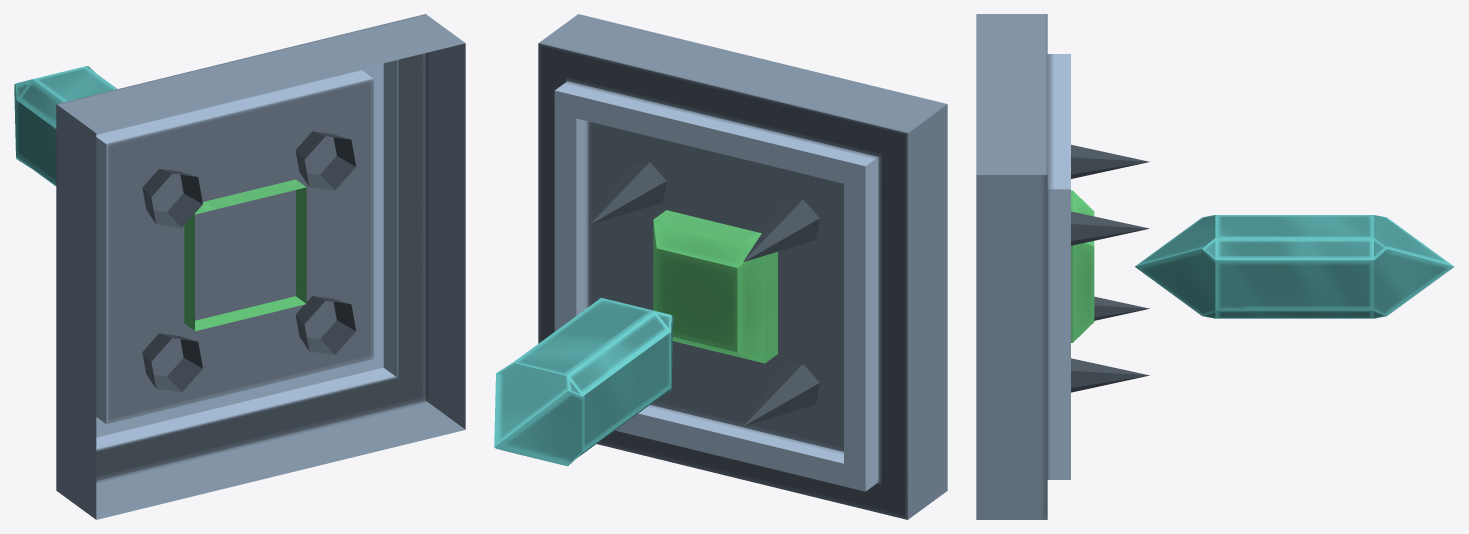
Rendered from Tour boost2.fbx.
3 views of the same model, side by side, from view 1: azimuth 30°, elevation 25°; view 2: azimuth 150°, elevation 25°; view 3: azimuth 270°, elevation 25° (orthographic). The views are drawn at different scales.
Visible parts, largest first — view 1: Tour 2; view 2: Tour 2; view 3: Tour 2.
Boxes of the visible parts, <box> form: Tour 2: <box>14,14,465,519</box>; Tour 2: <box>494,14,947,519</box>; Tour 2: <box>976,14,1454,519</box>.
Bounding box in the file's own units: 3.05 × 3.05 × 3.83.
